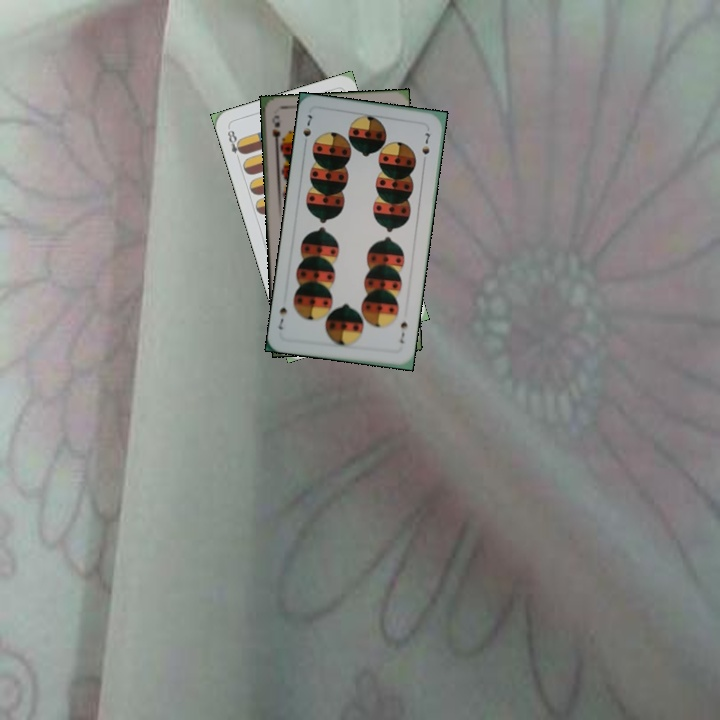E8: (223, 124, 246, 164)
S7: (299, 110, 315, 149), (396, 317, 410, 346)
S9: (268, 111, 286, 151)
